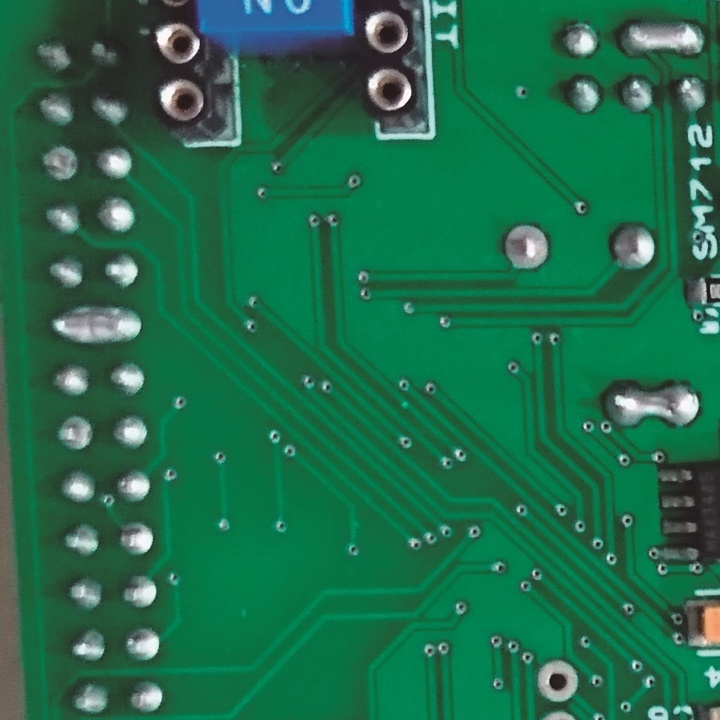F: (498, 220, 550, 272), (533, 655, 581, 704), (119, 624, 164, 662), (115, 520, 158, 558), (39, 145, 81, 182), (54, 413, 93, 452)
P: (601, 377, 704, 435), (48, 301, 148, 350), (613, 16, 708, 59)
